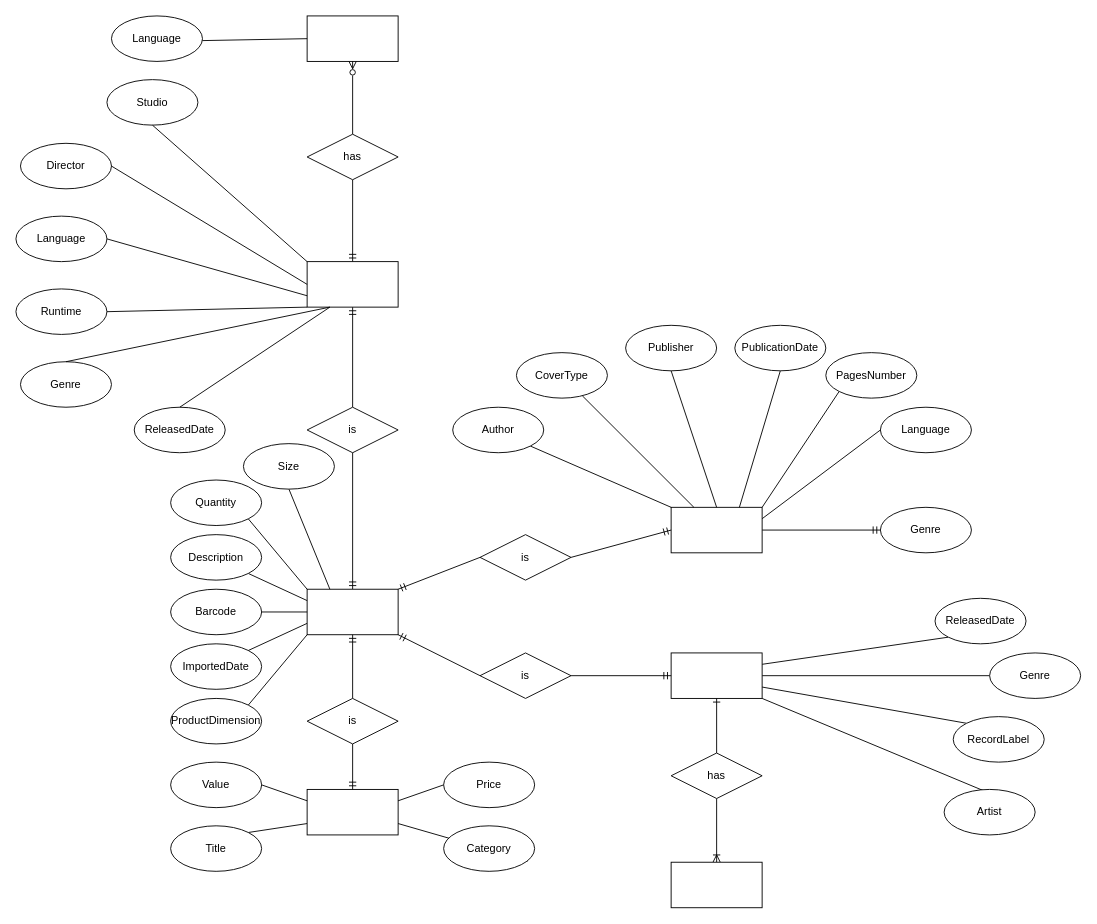
Image size: 1097x924. Some labels were removed from this diagram. The centre of each missing label's shape, as x and y in pixels:
Book: the point at 716,529
CD: the point at 716,675
DVD: the point at 352,284
Media: the point at 352,812
PhysicalMedia: the point at 352,611
Subtitle: the point at 352,38
Track: the point at 716,884
